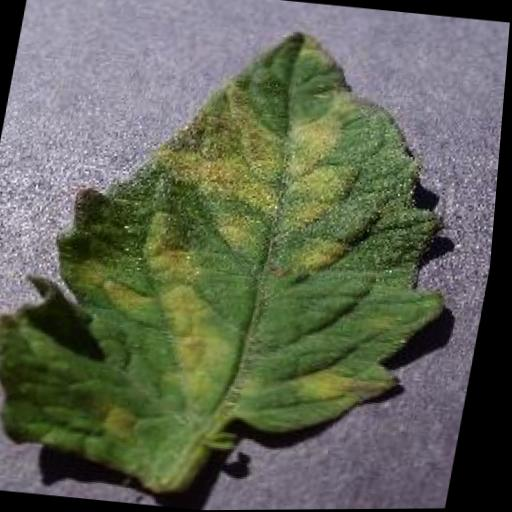Leaf Mold: (0, 4, 495, 512)
